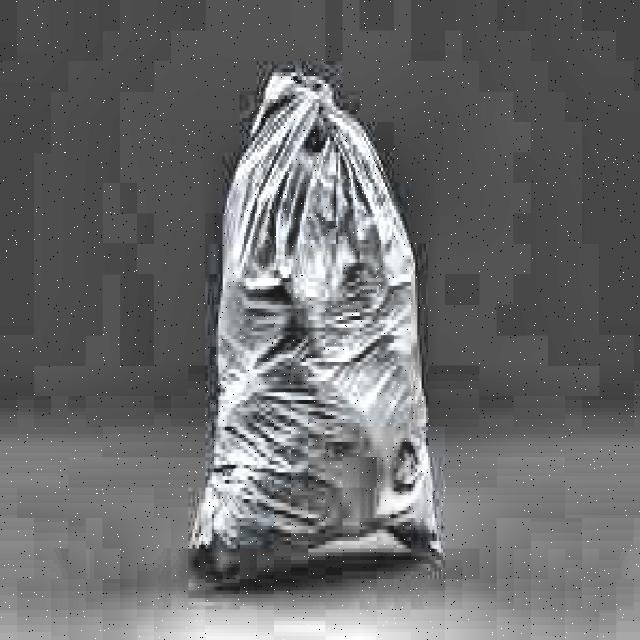Trashbag: (176, 78, 448, 590)
